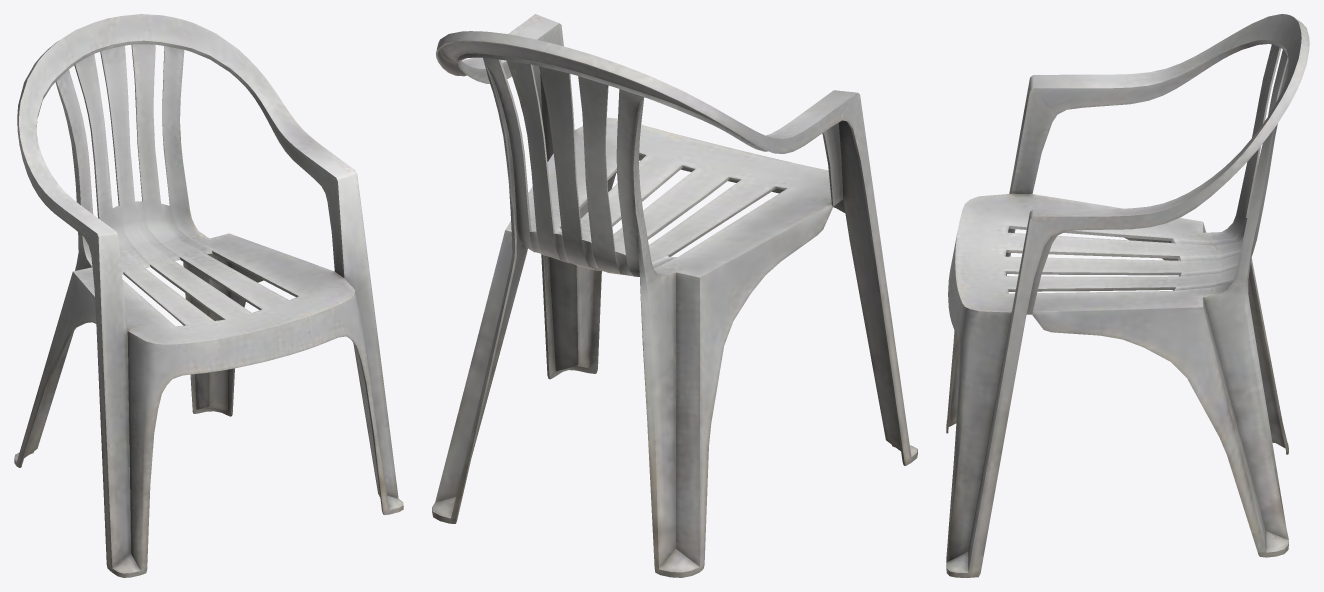
The model's file is plastic_monobloc_chair_01.glb.
3 views of the same model, side by side, from view 1: azimuth 30°, elevation 25°; view 2: azimuth 150°, elevation 25°; view 3: azimuth 270°, elevation 25° (orthographic). The views are drawn at different scales.
Visible parts, largest first — view 1: plastic_monobloc_chair_01; view 2: plastic_monobloc_chair_01; view 3: plastic_monobloc_chair_01.
Part boxes in pixels (x1,y1,x2,y2): plastic_monobloc_chair_01: (14, 14, 403, 577); plastic_monobloc_chair_01: (432, 14, 917, 577); plastic_monobloc_chair_01: (946, 14, 1309, 577).
Size of the model in its own units: 0.6419 by 0.8798 by 0.6276.
1 material, 1 textured.
